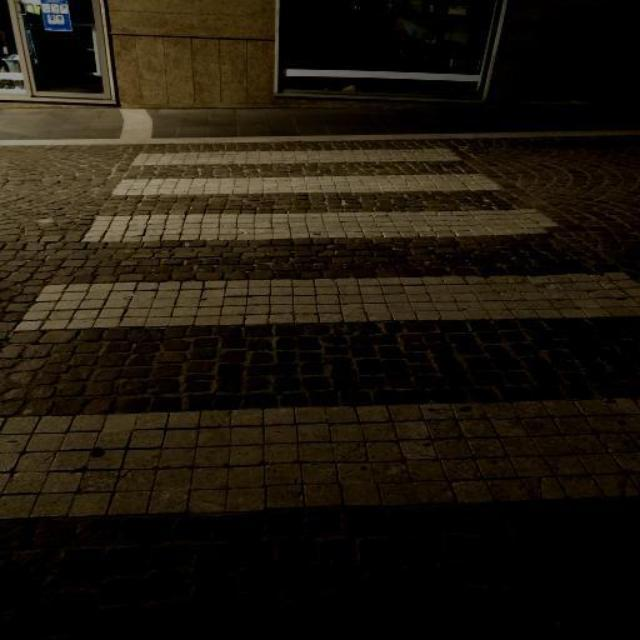sidewalk: (1, 145, 639, 520)
